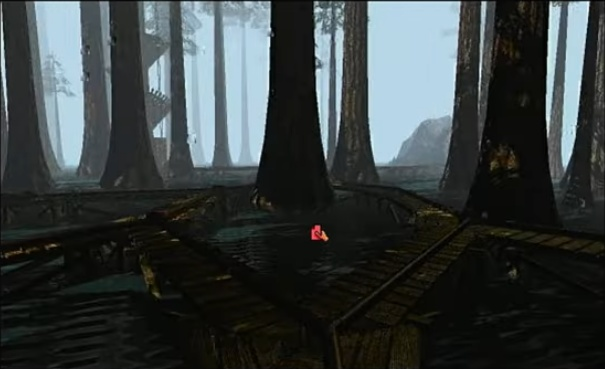Keep: (308, 221, 332, 244)
